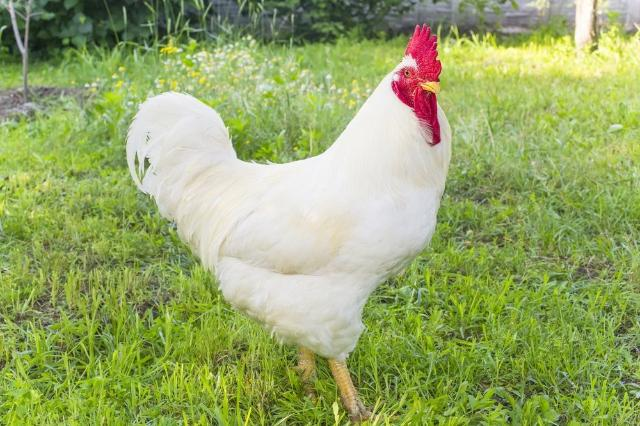Chicken: (123, 21, 455, 424)
